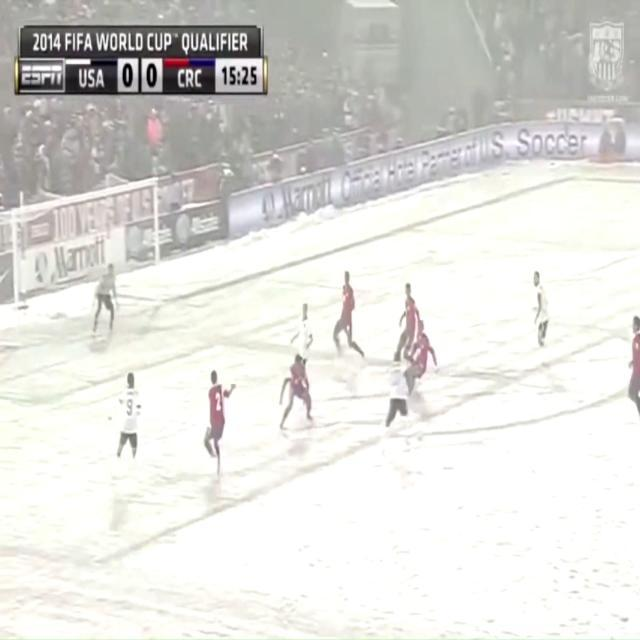ball: (417, 425, 425, 447)
goalkeeper: (90, 259, 126, 348)
player: (278, 348, 321, 451), (200, 367, 237, 485), (334, 267, 372, 371), (111, 372, 146, 480), (288, 298, 326, 391), (525, 256, 553, 365), (404, 314, 436, 401), (386, 351, 412, 456), (621, 312, 640, 423), (399, 281, 418, 363)
